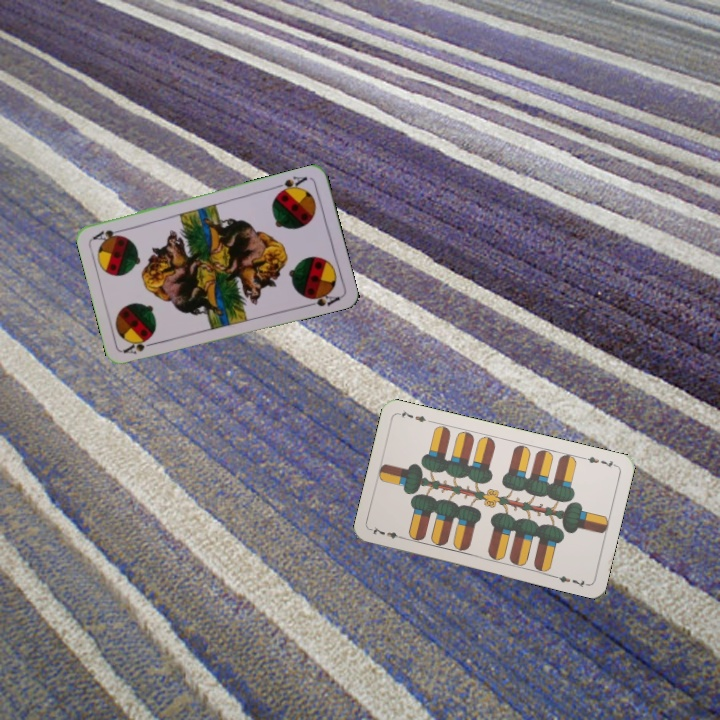E7: (579, 452, 619, 471), (368, 523, 408, 542)
SA: (272, 172, 310, 197), (120, 335, 160, 357)
